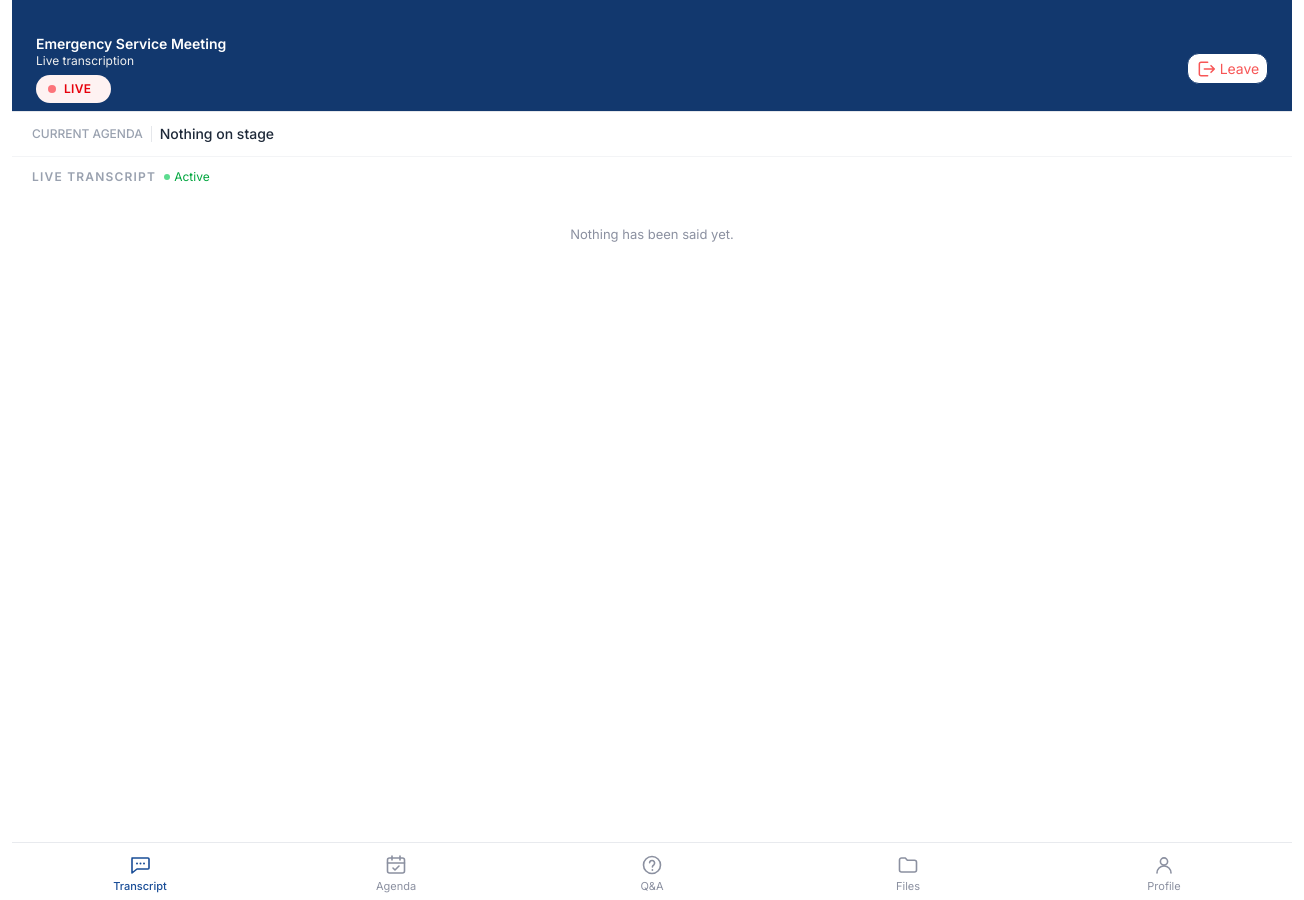
Scenario: the five things along the bottom › uses the attendee settings profile with the normal selected-tab style
Click the button "Profile": (1164, 872) [1036,843,1292,899]
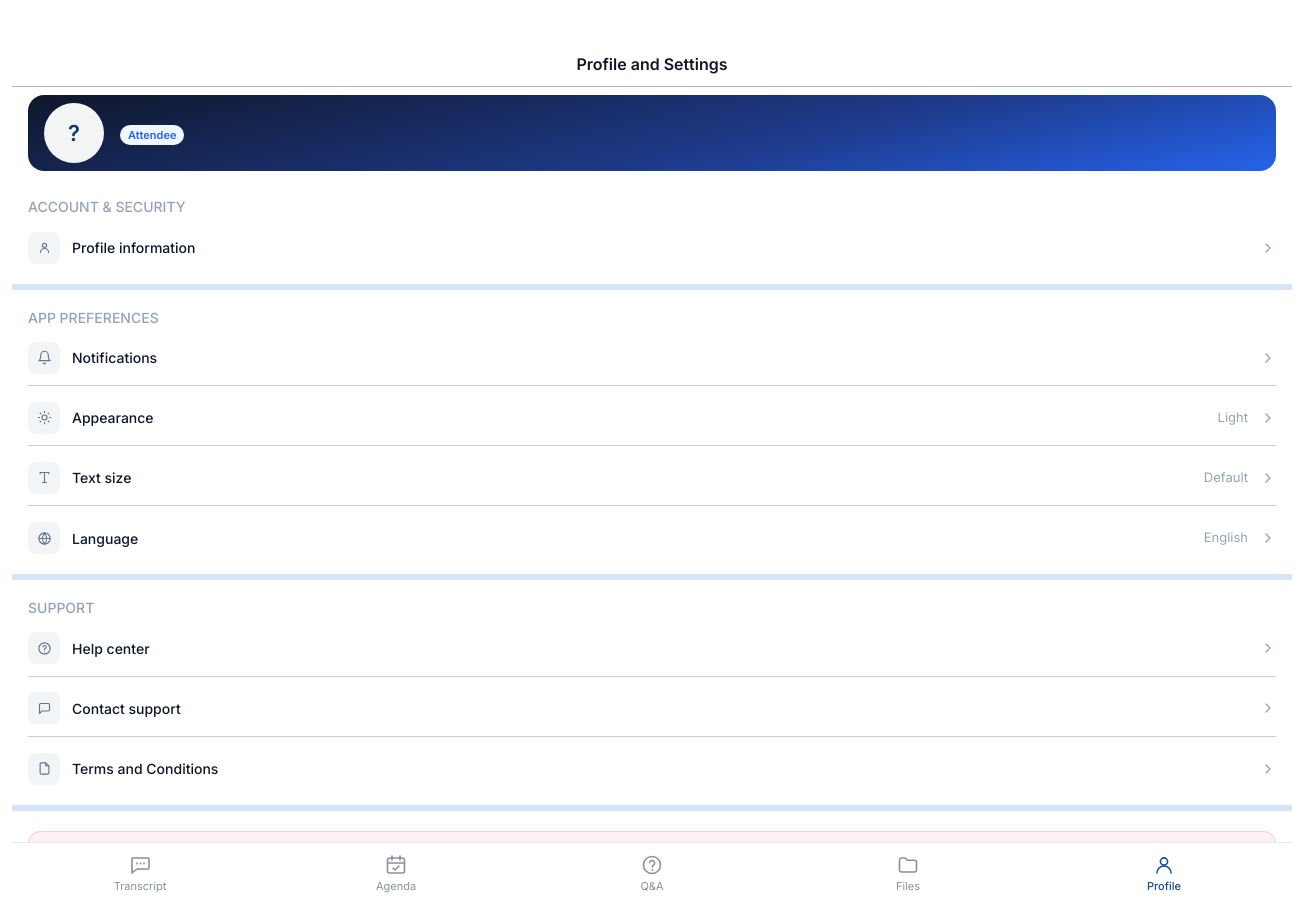
Expected: the heading "Profile and Settings" is shown, [576,54,728,74]
